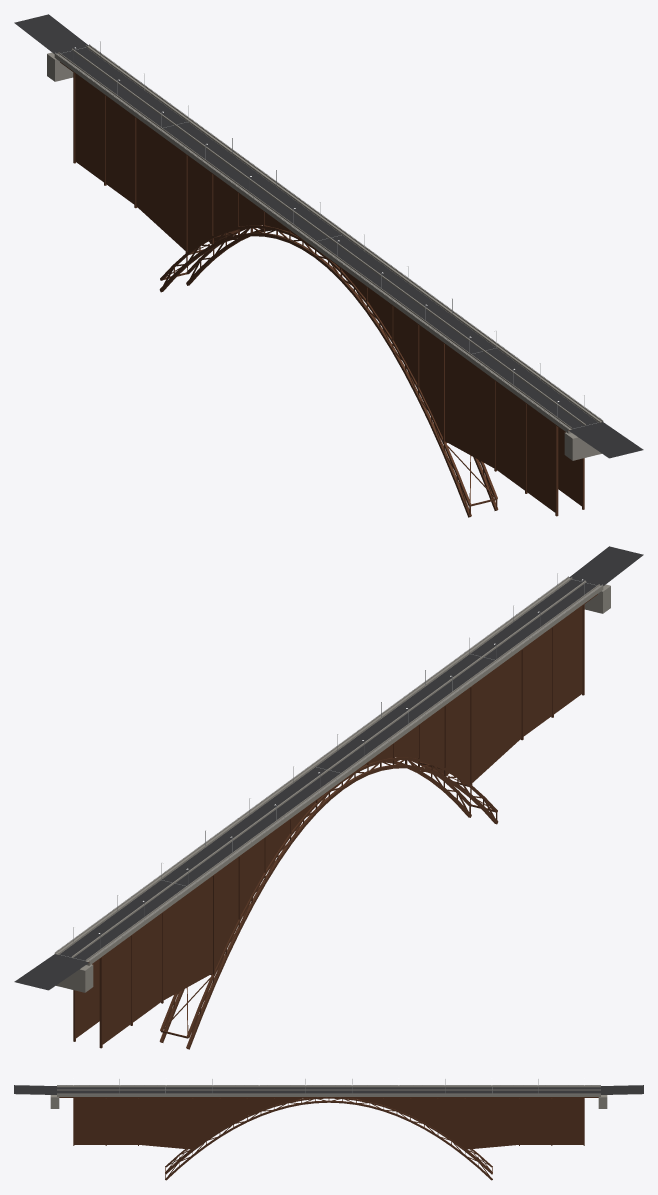
The model's file is tf_perrine_lookalike_bridge_v2.glb.
The picture shows the model from 3 angles, top to bottom: view 1: azimuth 30°, elevation 25°; view 2: azimuth 150°, elevation 25°; view 3: azimuth 270°, elevation 25°; orthographic projection. The views are drawn at different scales.
Parts seen in each view (by area): view 1: bridge_card, bridge_road, bridge_conc, bridge_steel, bridge_rail; view 2: bridge_card, bridge_road, bridge_conc, bridge_steel, bridge_rail; view 3: bridge_card, bridge_conc, bridge_road, bridge_steel, bridge_rail.
Part boxes in pixels (<box>): bridge_card: <box>75,74,581,512</box>; bridge_road: <box>14,14,643,458</box>; bridge_conc: <box>47,45,603,460</box>; bridge_steel: <box>60,62,584,517</box>; bridge_rail: <box>55,41,602,428</box>; bridge_card: <box>76,606,582,1044</box>; bridge_road: <box>14,546,643,990</box>; bridge_conc: <box>54,577,610,992</box>; bridge_steel: <box>73,594,597,1049</box>; bridge_rail: <box>55,573,602,960</box>; bridge_card: <box>74,1098,583,1149</box>; bridge_conc: <box>50,1085,607,1108</box>; bridge_road: <box>14,1085,643,1094</box>; bridge_steel: <box>59,1097,598,1180</box>; bridge_rail: <box>57,1079,600,1094</box>.
Size of what is drawn, in the model's own units: 21.7 by 97.41 by 584.
